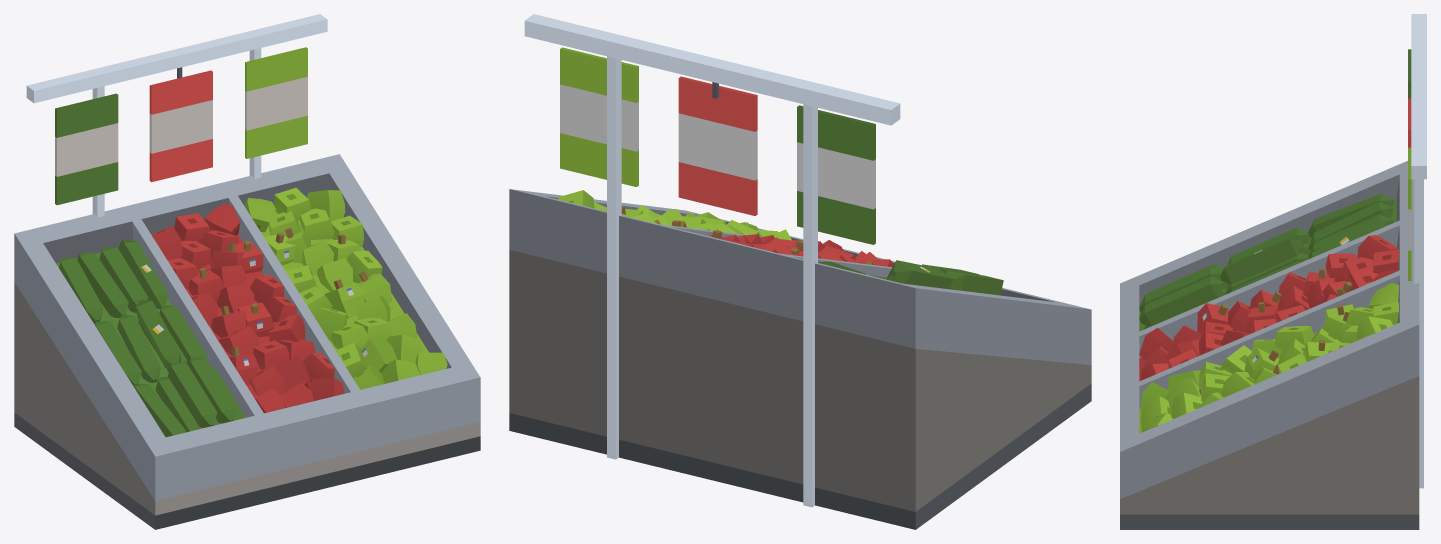
File: ProduceSection.glb
The picture shows the model from 3 angles, left to right: view 1: azimuth 30°, elevation 25°; view 2: azimuth 150°, elevation 25°; view 3: azimuth 270°, elevation 25°; orthographic projection. The views are drawn at different scales.
Parts seen in each view (by area): view 1: SI_Prop_ProduceSection_01; view 2: SI_Prop_ProduceSection_01; view 3: SI_Prop_ProduceSection_01.
Boxes of the visible parts, x1,y1,x2,y2 form: SI_Prop_ProduceSection_01: [14, 14, 480, 529]; SI_Prop_ProduceSection_01: [509, 14, 1091, 529]; SI_Prop_ProduceSection_01: [1120, 14, 1426, 529].
Bounding box in the file's own units: 0.04 × 0.0393 × 0.0308.
Materials: 1 (1 with a texture image).
